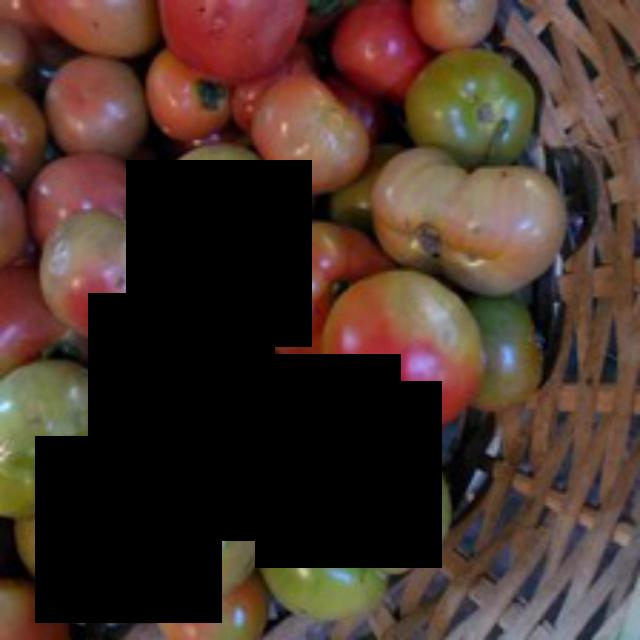tomato: (313, 268, 505, 452)
